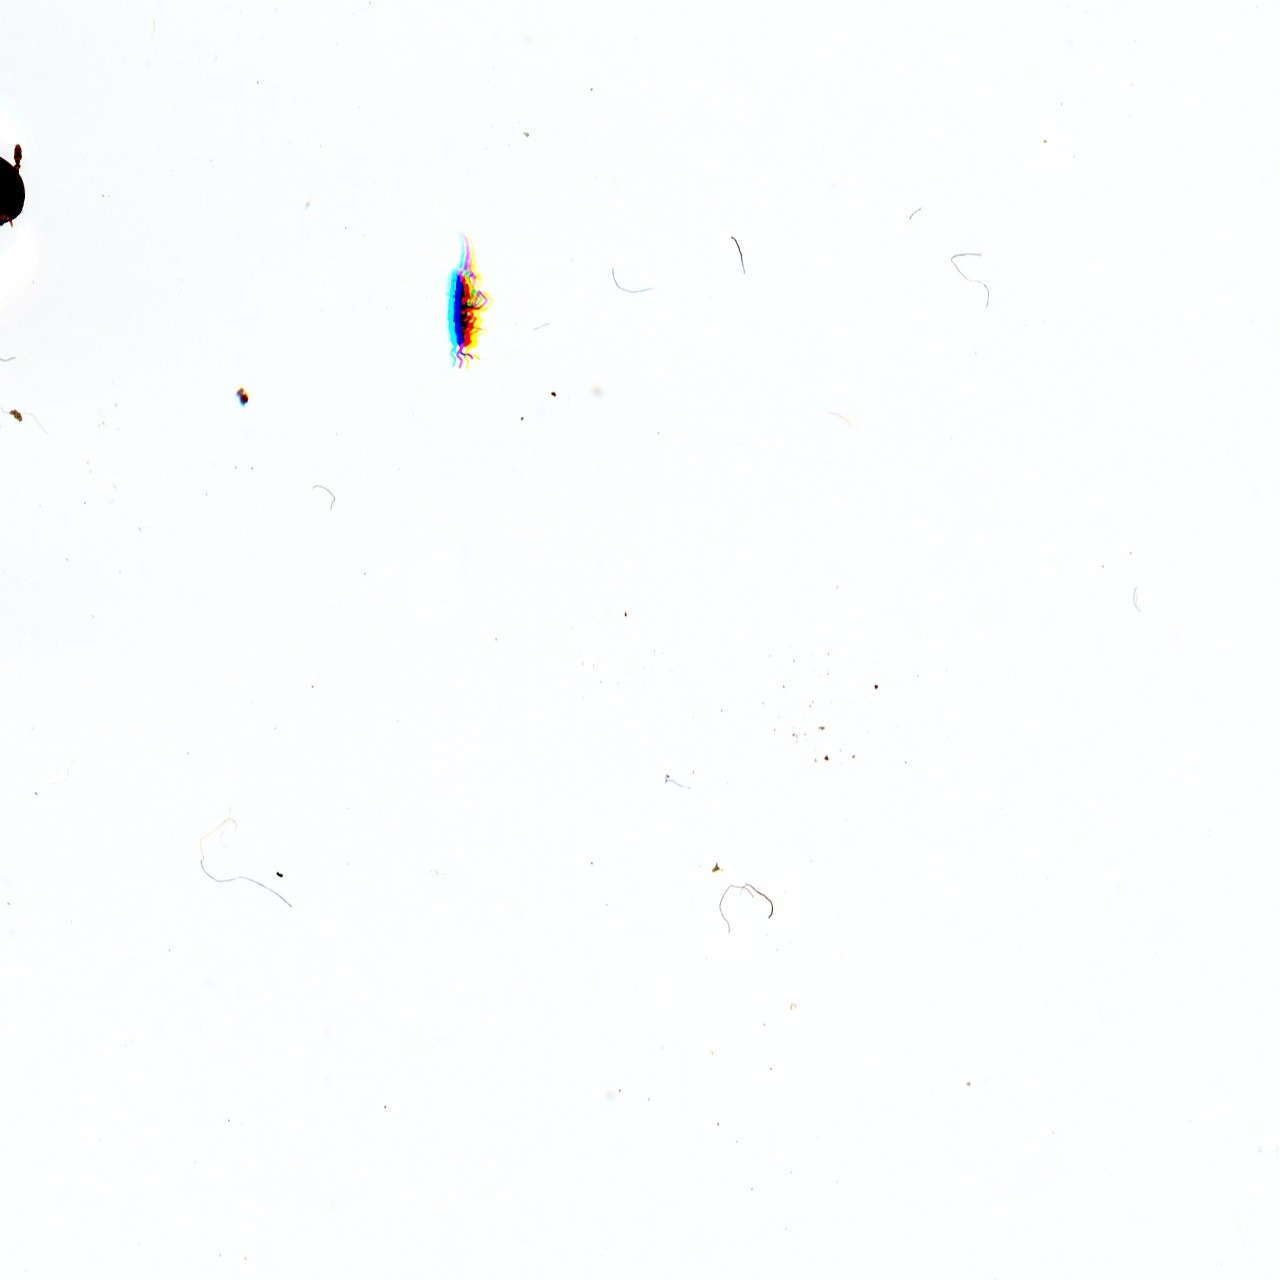arthropod: (440, 216, 493, 377), (0, 139, 30, 292)
